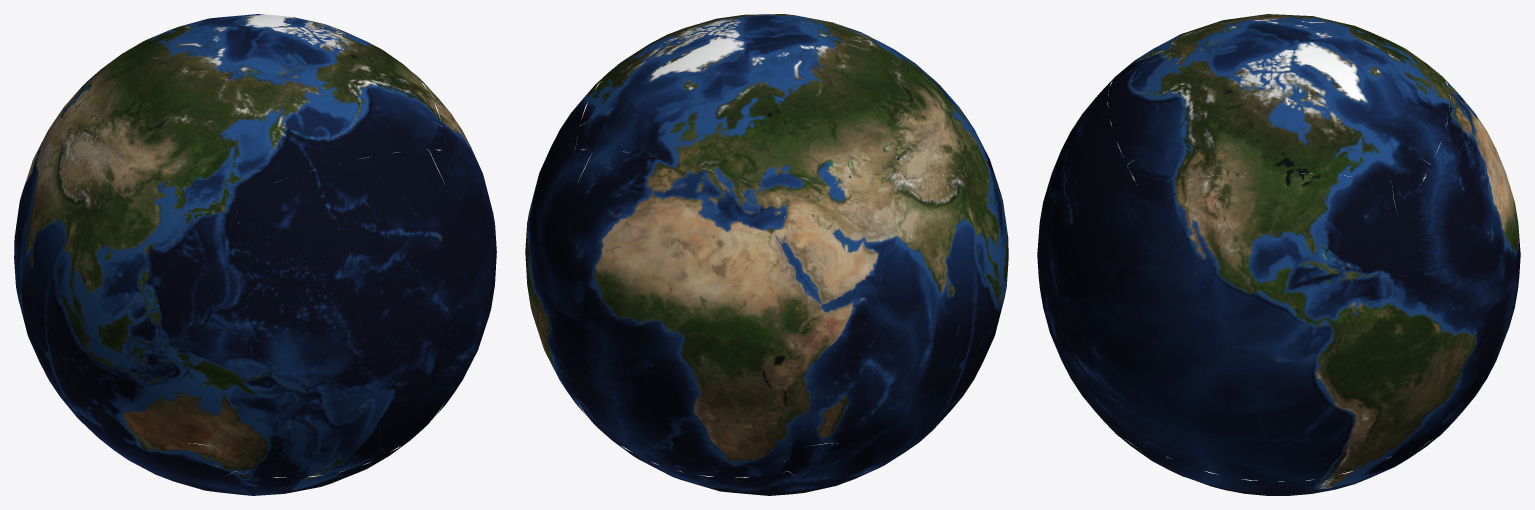
The model's file is Earth_1_12756_optimized.glb.
3 views of the same model, side by side, from view 1: azimuth 30°, elevation 25°; view 2: azimuth 150°, elevation 25°; view 3: azimuth 270°, elevation 25° (orthographic).
Parts seen in each view (by area): view 1: Cube.001; view 2: Cube.001; view 3: Cube.001.
Part boxes in pixels (x1,y1,x2,y2): Cube.001: (14,14,496,495); Cube.001: (525,14,1008,495); Cube.001: (1037,14,1520,495).
Size of the model in its own units: 1000 by 996 by 1000.
Materials: 1 (1 with a texture image).
